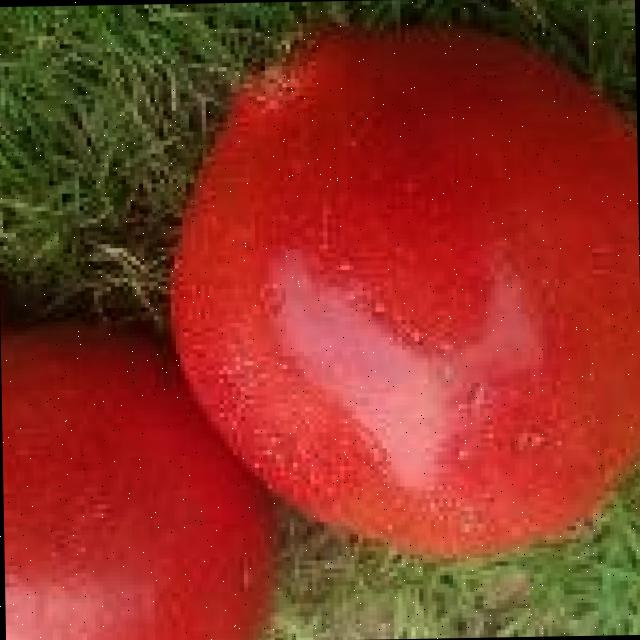Good_Pomegranate-50-60-days: (0, 14, 640, 640)
